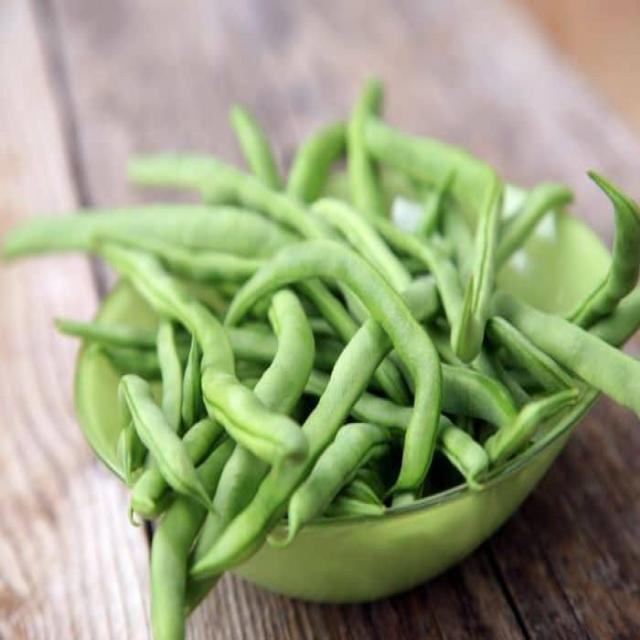Beans: (67, 124, 634, 504)
